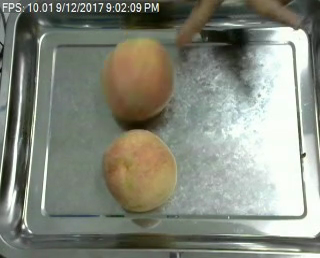Peach: (102, 128, 177, 212), (102, 38, 174, 121)
